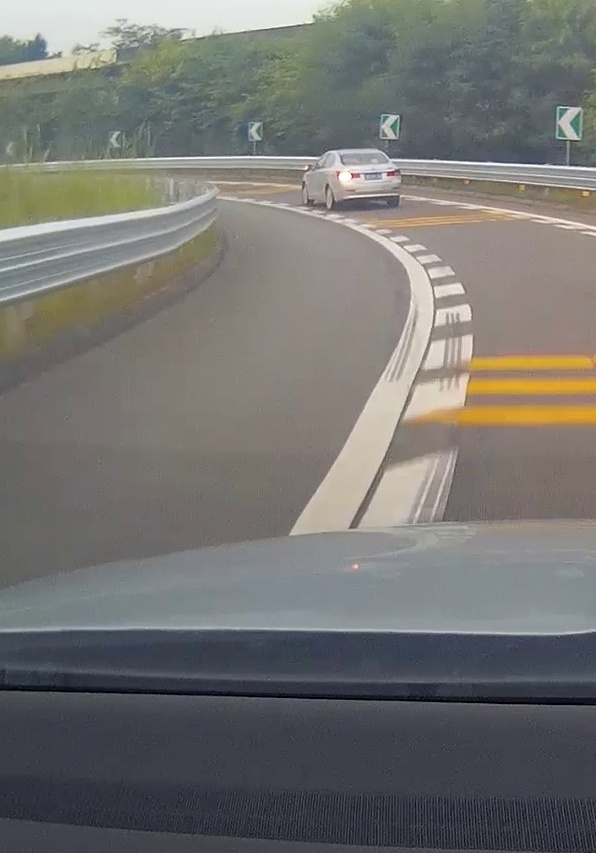L_light: (337, 172, 360, 179)
R_light: (386, 168, 401, 177)
T_light: (357, 153, 367, 155)
day-left: (334, 149, 402, 211)
